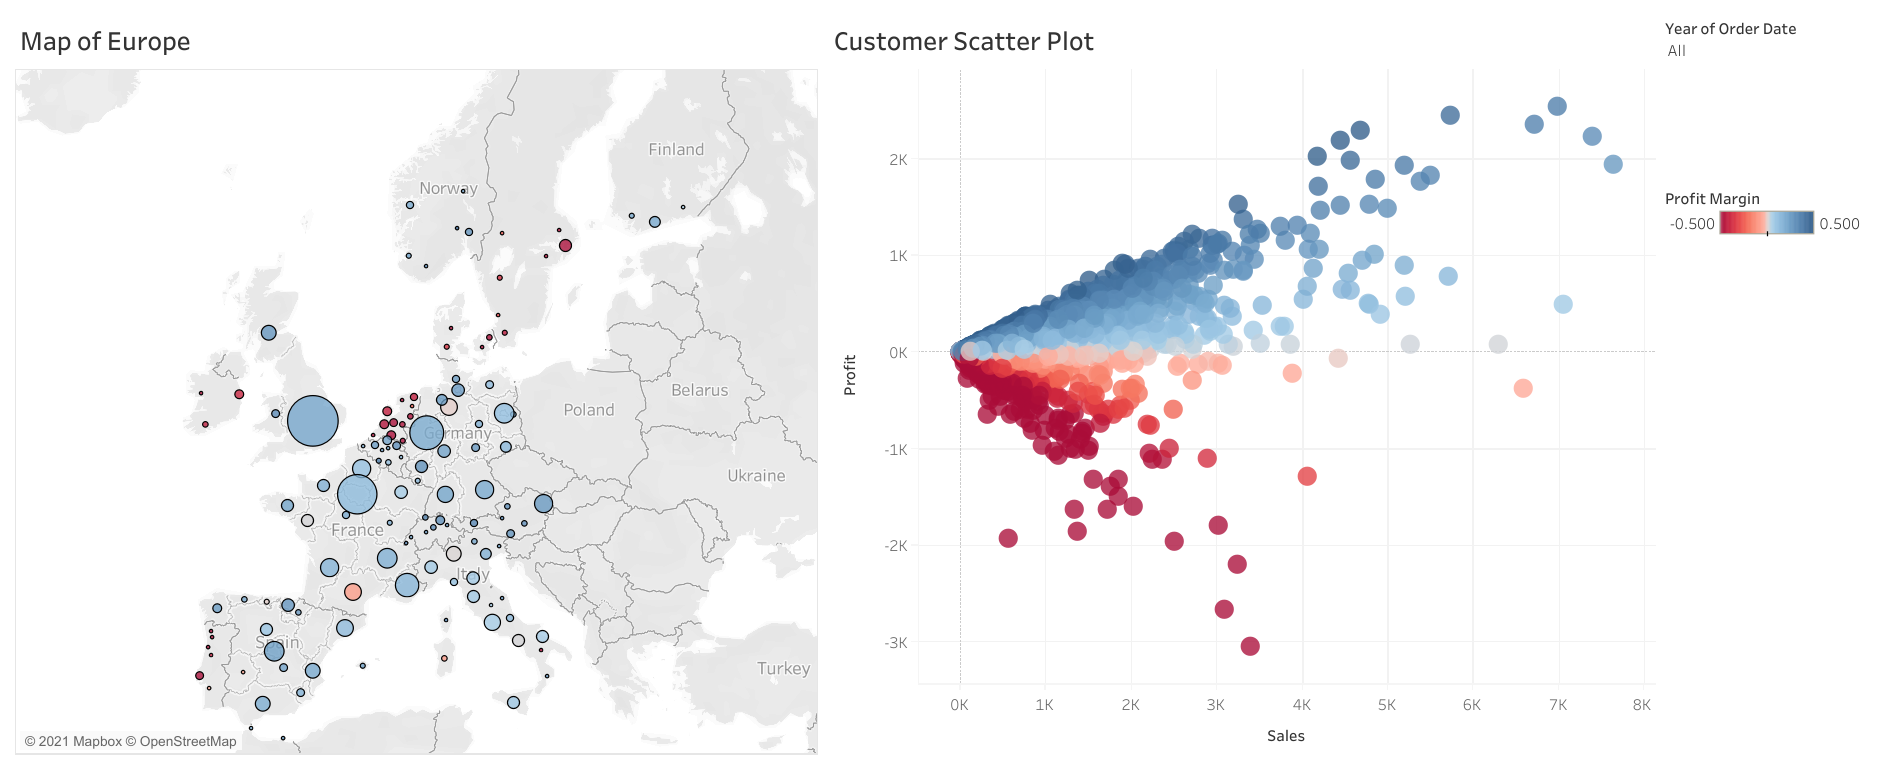

Layout of this report page (visuals, bound fields, positions):
{"tool":"tableau","page":{"name":"Dashboard 1","canvas":[1000,1000],"units":"permille","ordinal":0},"visuals":[{"type":"worksheet","title":"Map of Europe","mark":"Automatic","box":[4.8,9.2,438.1,981.7]},{"type":"worksheet","title":"Customer Scatter Plot","mark":"Automatic","rows":["Profit"],"cols":["Sales"],"box":[443,9.2,450.2,981.7]},{"type":"filter","title":"Map of Europe","param":"[federated.1vjdoy816ccdo813u4k481p7dfs0].[yr:Order Date:ok]","box":[893.2,9.2,102,173]},{"type":"legend","title":"Map of Europe","param":"[federated.1vjdoy816ccdo813u4k481p7dfs0].[usr:Calculation_1012184018426245120:qk","box":[893.2,182.1,102,83.6]}]}

Visuals, with their boxes on the dashboard's canvas, which has no fixed pixel size, in thousandths of its width and height (x1, y1, x2, y2). These are canvas units, not pixel positions in the 1880x769 screenshot, which may show the page scaled, cropped or inside an application window:
"Map of Europe" worksheet: l=5, t=9, r=443, b=991
"Customer Scatter Plot" worksheet: l=443, t=9, r=893, b=991
"Map of Europe" filter: l=893, t=9, r=995, b=182
"Map of Europe" legend: l=893, t=182, r=995, b=266
